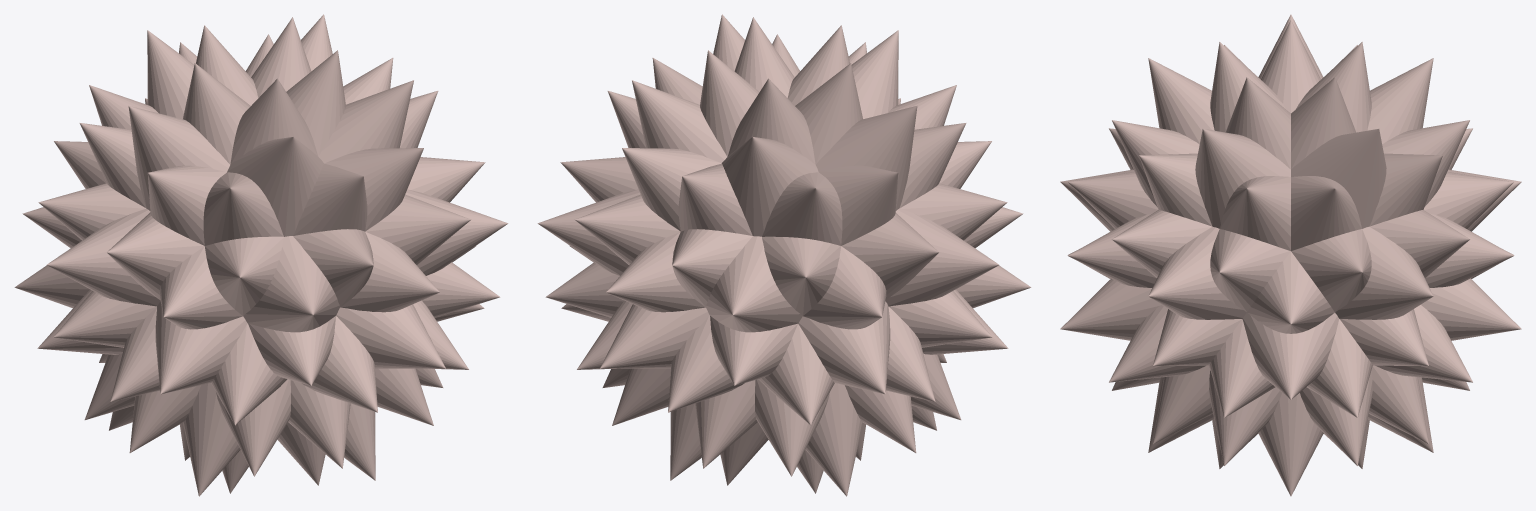
File: esferaconpicos.obj
3 views of the same model, side by side, from view 1: azimuth 30°, elevation 25°; view 2: azimuth 150°, elevation 25°; view 3: azimuth 270°, elevation 25° (orthographic). The views are drawn at different scales.
Visible parts, largest first — view 1: Cone; view 2: Cone; view 3: Cone.
Part boxes in pixels (left/top/right/bottom): Cone: left=14, top=14, right=508, bottom=496; Cone: left=537, top=14, right=1031, bottom=496; Cone: left=1060, top=14, right=1521, bottom=496.
Size of the model in its own units: 3.99 by 3.7 by 3.8.
